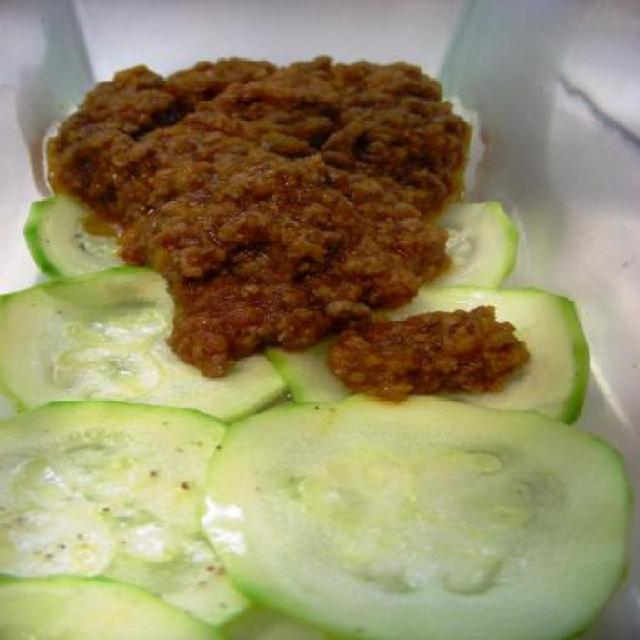Cucumber: (0, 193, 638, 638)
